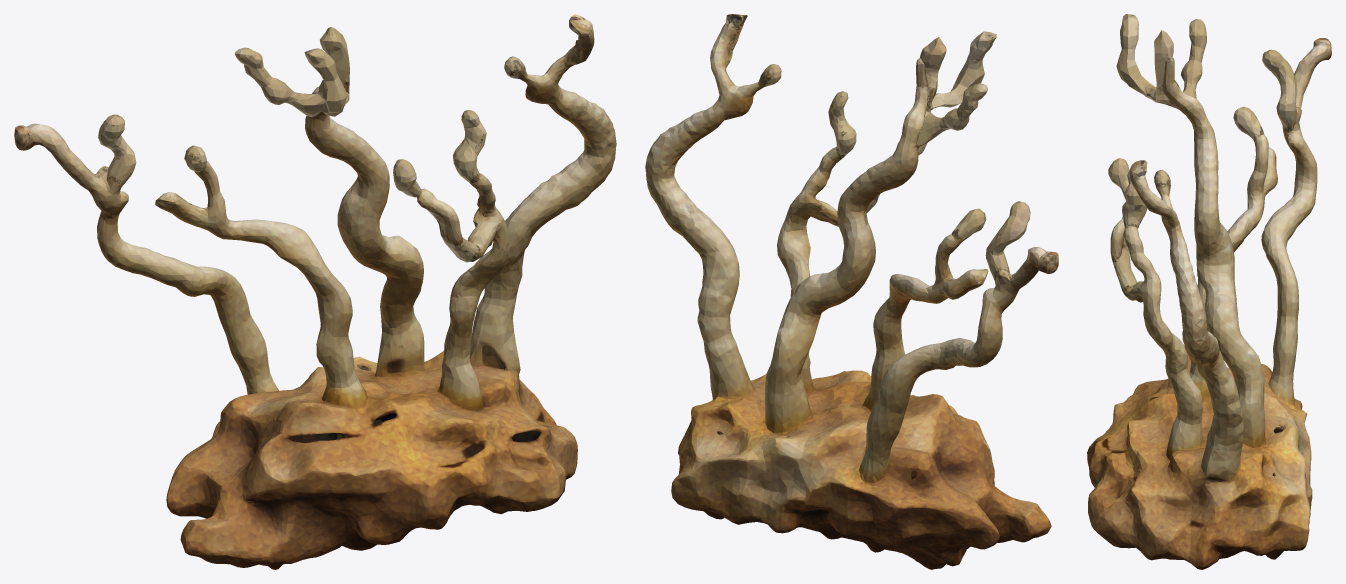
The picture shows the model from 3 angles, left to right: view 1: azimuth 30°, elevation 25°; view 2: azimuth 150°, elevation 25°; view 3: azimuth 270°, elevation 25°; orthographic projection. The views are drawn at different scales.
Parts seen in each view (by area): view 1: world; view 2: world; view 3: world.
Boxes of the visible parts, x1,y1,x2,y2 form: world: [14, 14, 616, 569]; world: [645, 14, 1058, 569]; world: [1087, 14, 1331, 569].
Bounding box in the file's own units: 0.9793 × 0.991 × 0.4586.
Materials: 2 (2 with a texture image).
